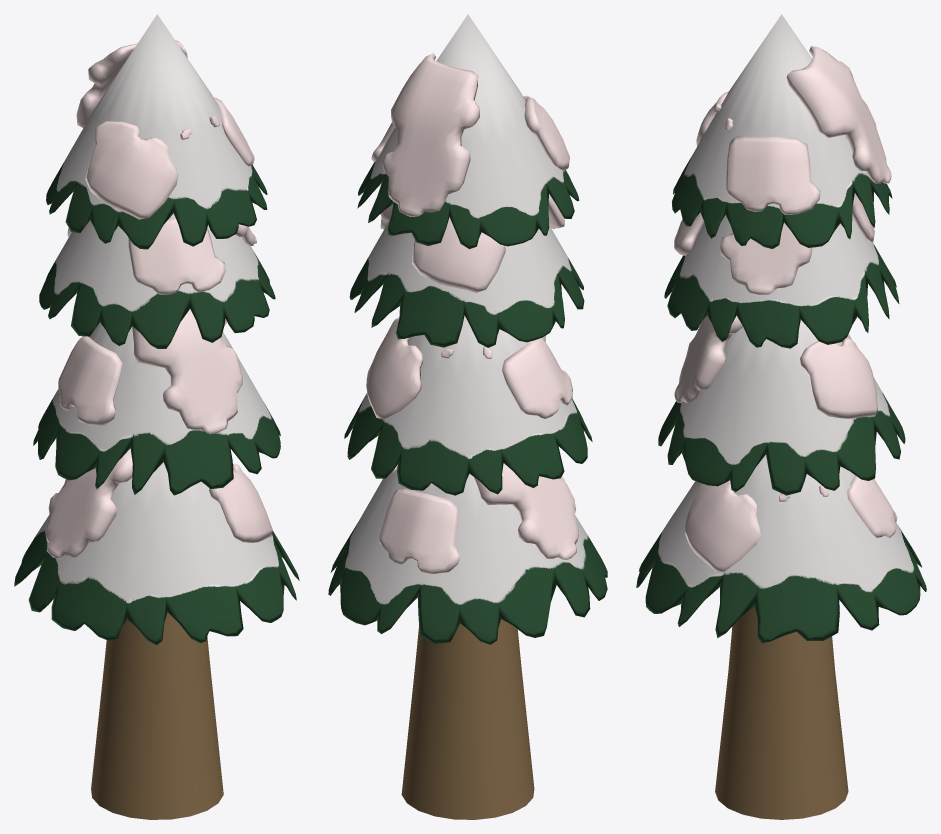
Rendered from Tree2.O.fbx.
The picture shows the model from 3 angles, left to right: view 1: azimuth 30°, elevation 25°; view 2: azimuth 150°, elevation 25°; view 3: azimuth 270°, elevation 25°; orthographic projection.
Visible parts, largest first — view 1: pasted__Tree_Branches_Bottom, pasted__Tree_Branches_Top, pasted__Log1, pasted__Tree_Branches_Middle, pasted__Tree_Branches_Highier_Middle, pasted__pCube71, pasted__pCube75, pasted__pCube81, pasted__pCube78, pasted__pCube64, pasted__pCube66, pasted__pCube80 (+1 smaller); view 2: pasted__Tree_Branches_Bottom, pasted__Tree_Branches_Middle, pasted__Log1, pasted__Tree_Branches_Top, pasted__Tree_Branches_Highier_Middle, pasted__pCube80, pasted__pCube82, pasted__pCube81, pasted__pCube72, pasted__pCube64, pasted__pCube65, pasted__pCube75; view 3: pasted__Tree_Branches_Bottom, pasted__Tree_Branches_Middle, pasted__Log1, pasted__Tree_Branches_Top, pasted__Tree_Branches_Highier_Middle, pasted__pCube80, pasted__pCube63, pasted__pCube66, pasted__pCube65, pasted__pCube74, pasted__pCube71, pasted__pCube82 (+2 smaller).
Part boxes in pixels (x1,y1,x2,y2): pasted__Tree_Branches_Bottom: (14, 462, 299, 645); pasted__Tree_Branches_Top: (46, 14, 267, 249); pasted__Log1: (91, 612, 223, 819); pasted__Tree_Branches_Middle: (33, 322, 280, 495); pasted__Tree_Branches_Highier_Middle: (39, 213, 275, 348); pasted__pCube71: (132, 309, 242, 434); pasted__pCube75: (85, 121, 178, 219); pasted__pCube81: (45, 448, 132, 558); pasted__pCube78: (128, 217, 225, 294); pasted__pCube64: (58, 336, 122, 425); pasted__pCube66: (209, 464, 272, 542); pasted__pCube80: (76, 40, 187, 127); pasted__Tree_Branches_Bottom: (328, 465, 607, 644); pasted__Tree_Branches_Middle: (344, 315, 592, 495); pasted__Log1: (401, 619, 534, 819); pasted__Tree_Branches_Top: (357, 14, 579, 249); pasted__Tree_Branches_Highier_Middle: (349, 219, 584, 347); pasted__pCube80: (382, 53, 479, 216); pasted__pCube82: (379, 488, 460, 573); pasted__pCube81: (474, 463, 578, 559); pasted__pCube72: (412, 217, 505, 292); pasted__pCube64: (502, 338, 572, 418); pasted__pCube65: (366, 317, 422, 419); pasted__pCube75: (523, 95, 569, 170); pasted__Tree_Branches_Bottom: (636, 455, 926, 643); pasted__Tree_Branches_Middle: (658, 319, 905, 495); pasted__Log1: (715, 606, 848, 819); pasted__Tree_Branches_Top: (672, 14, 892, 248); pasted__Tree_Branches_Highier_Middle: (664, 215, 899, 348); pasted__pCube80: (786, 46, 891, 183); pasted__pCube63: (726, 136, 820, 214); pasted__pCube66: (685, 480, 760, 571); pasted__pCube65: (800, 338, 877, 418); pasted__pCube74: (720, 222, 812, 295); pasted__pCube71: (674, 315, 742, 403); pasted__pCube82: (847, 475, 897, 537).
Bounding box in the file's own units: 4.19 × 12.86 × 4.35.
